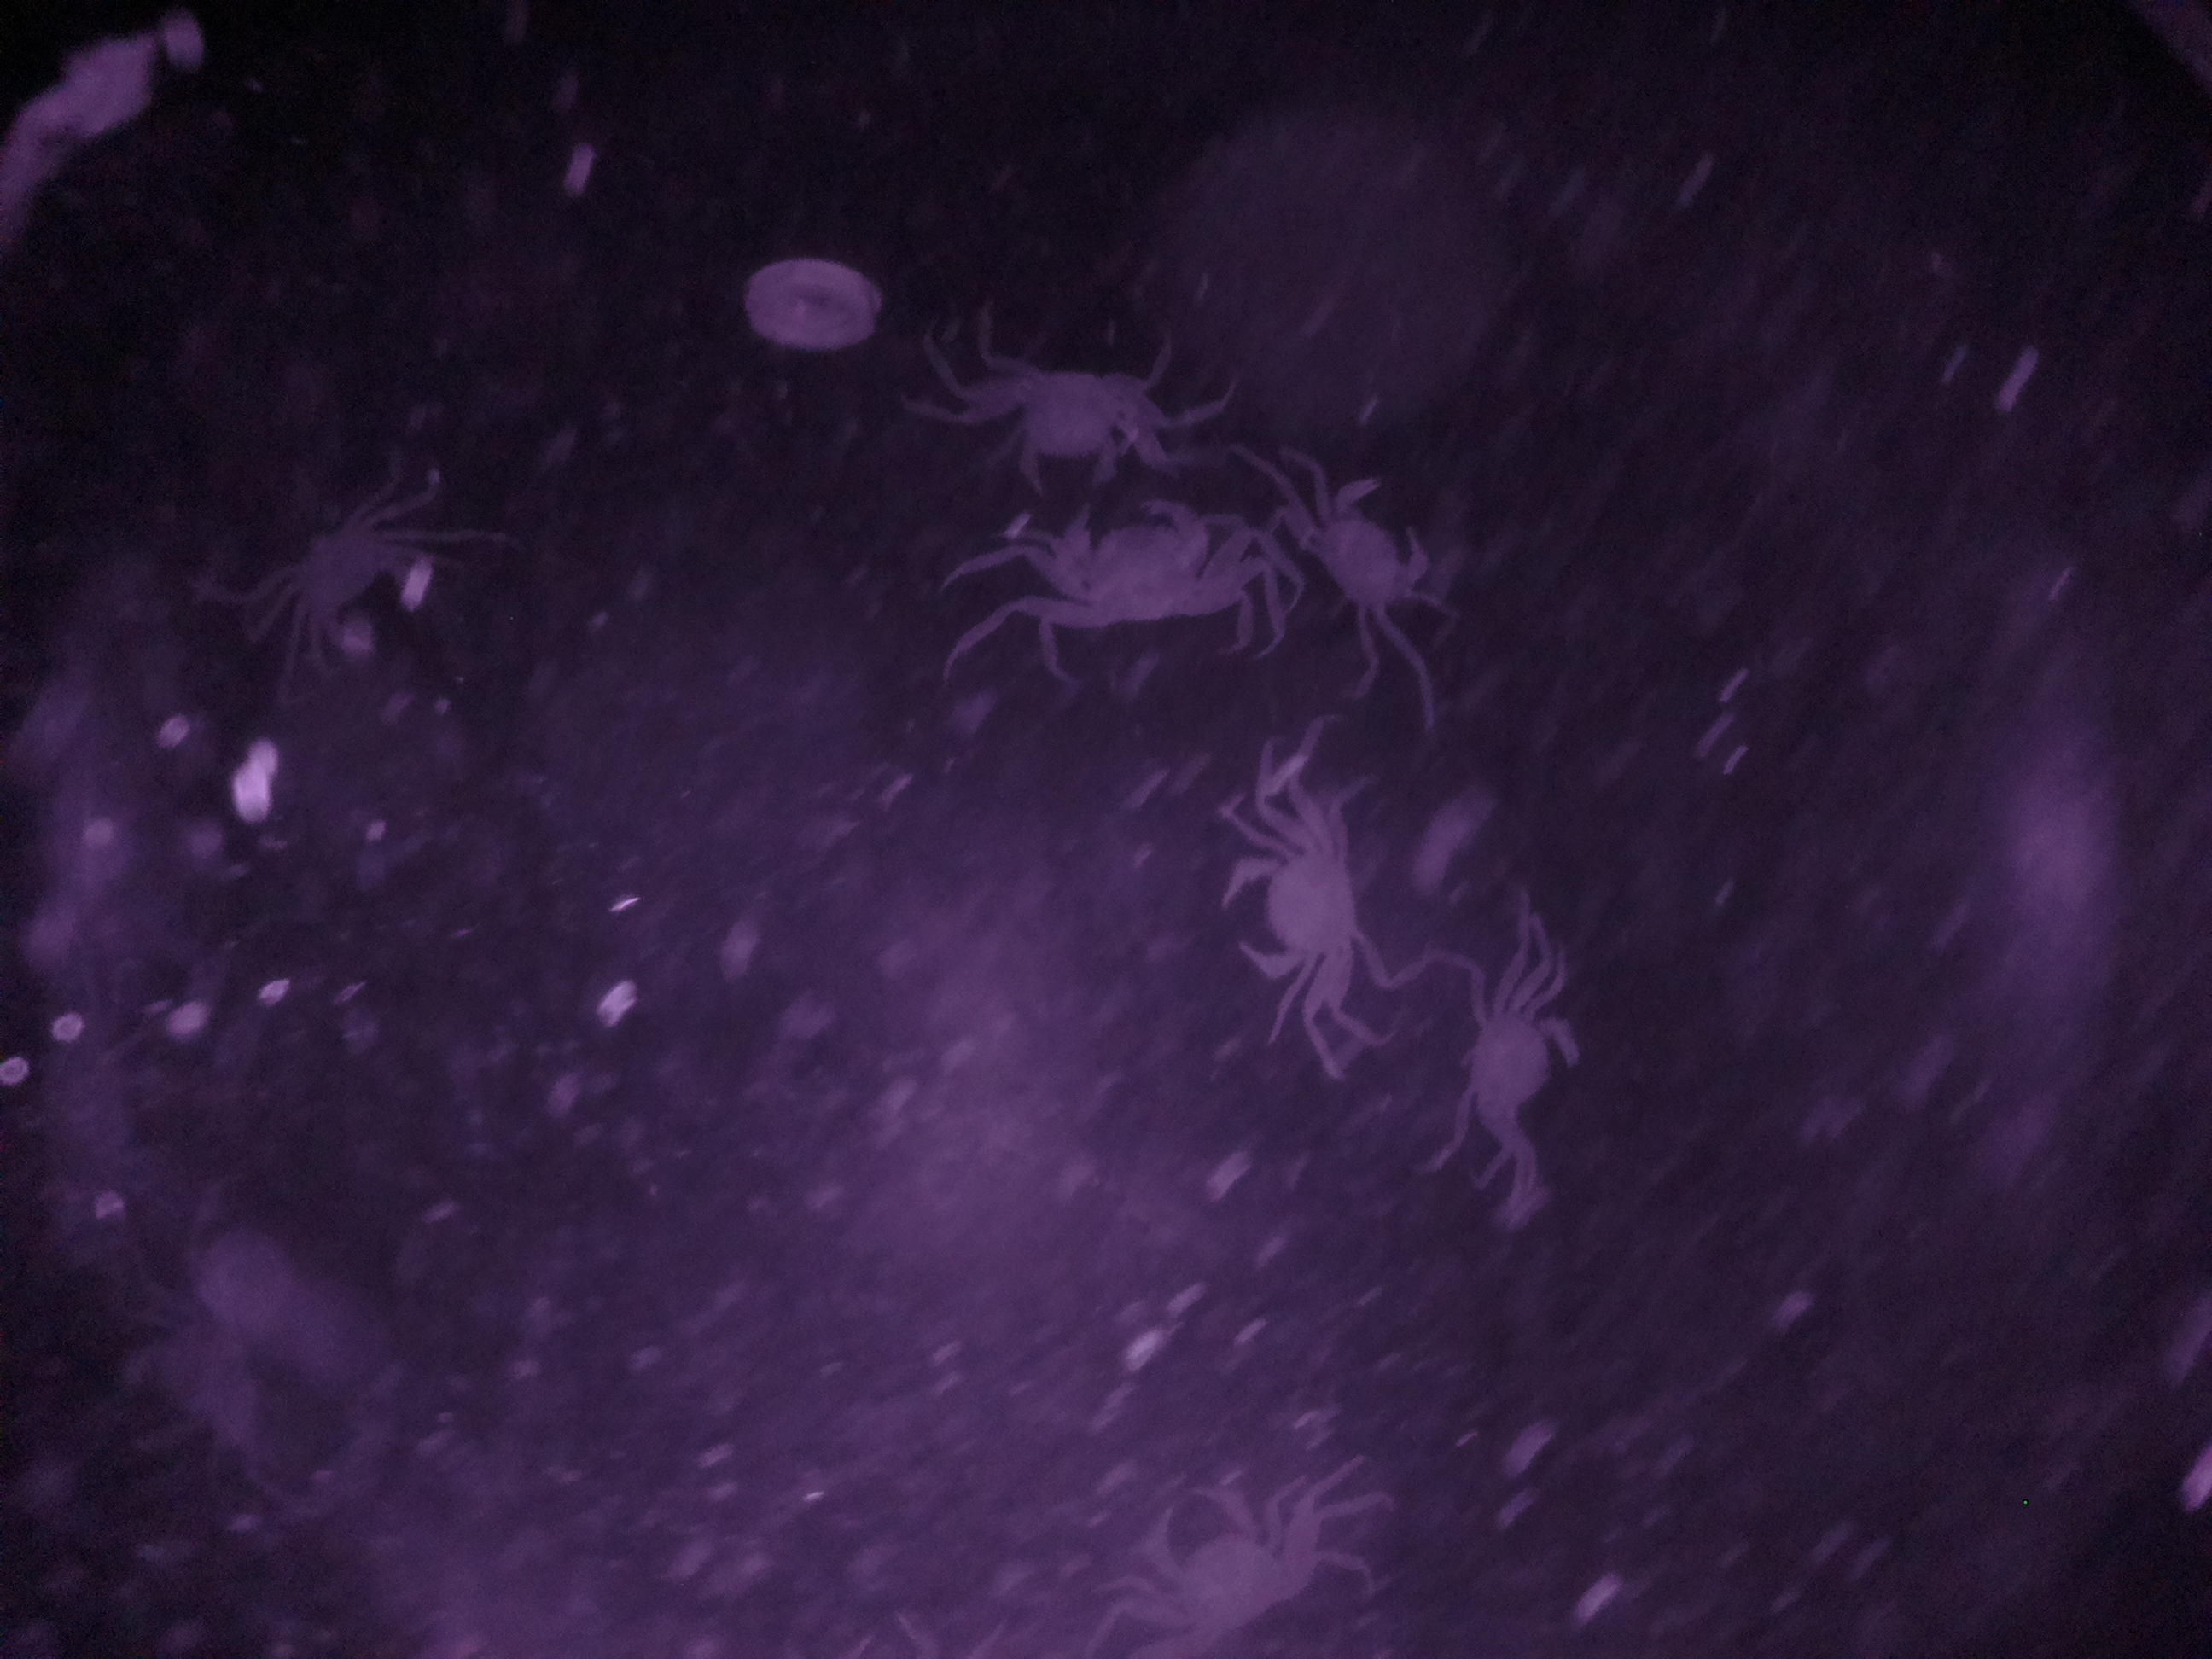Crab: (1256, 446, 1468, 671), (1109, 1452, 1339, 1659), (948, 321, 1195, 497), (1426, 936, 1592, 1194), (1183, 796, 1367, 1021), (998, 483, 1228, 640)
